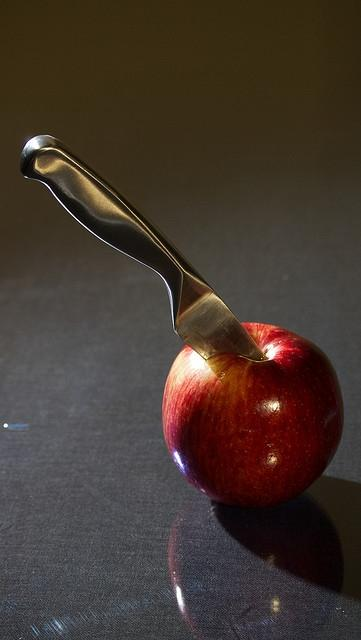apple: (162, 322, 344, 509), (168, 491, 344, 640)
